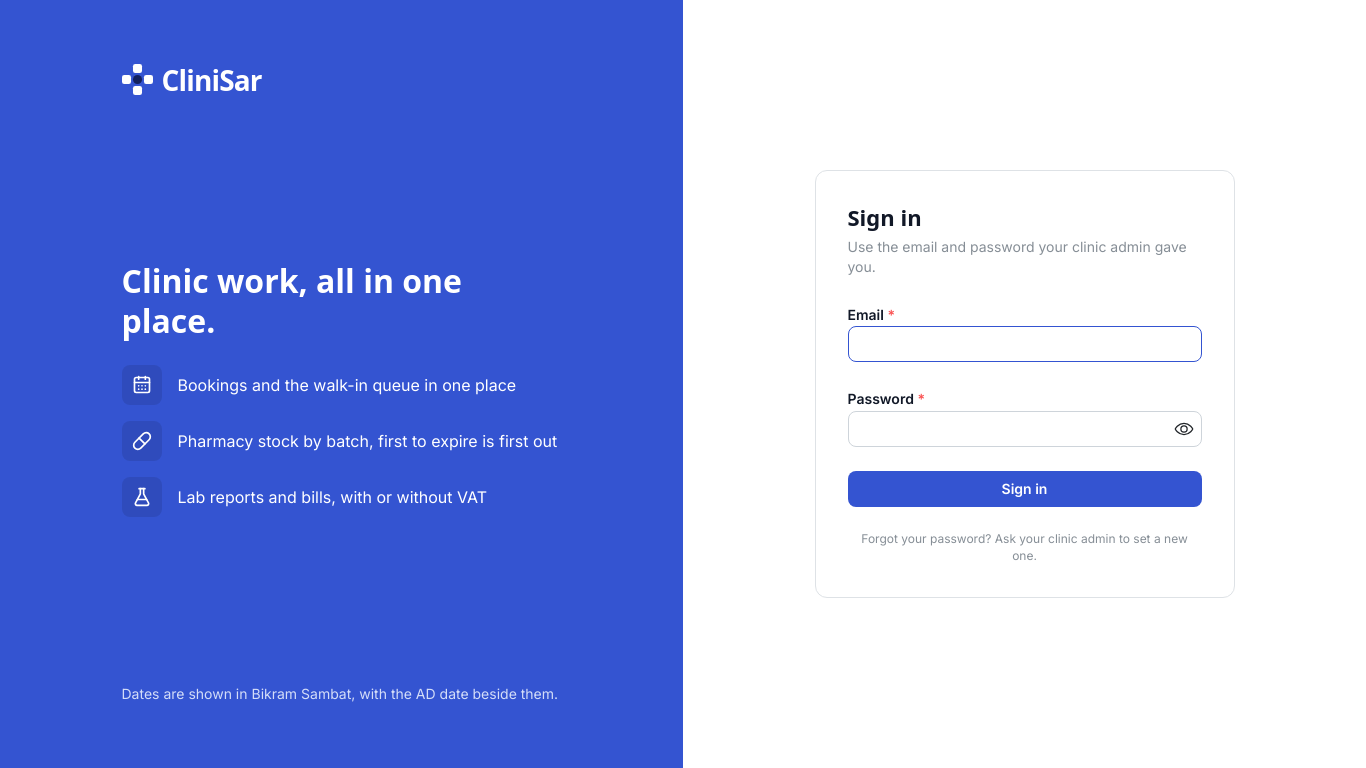
Test case: LoginPage › checks the fields before sending anything
This screenshot has width=1366, height=768.
Type "not-an-email" into the field labelled "Email *" at (1024, 344), box [848, 326, 1202, 362]
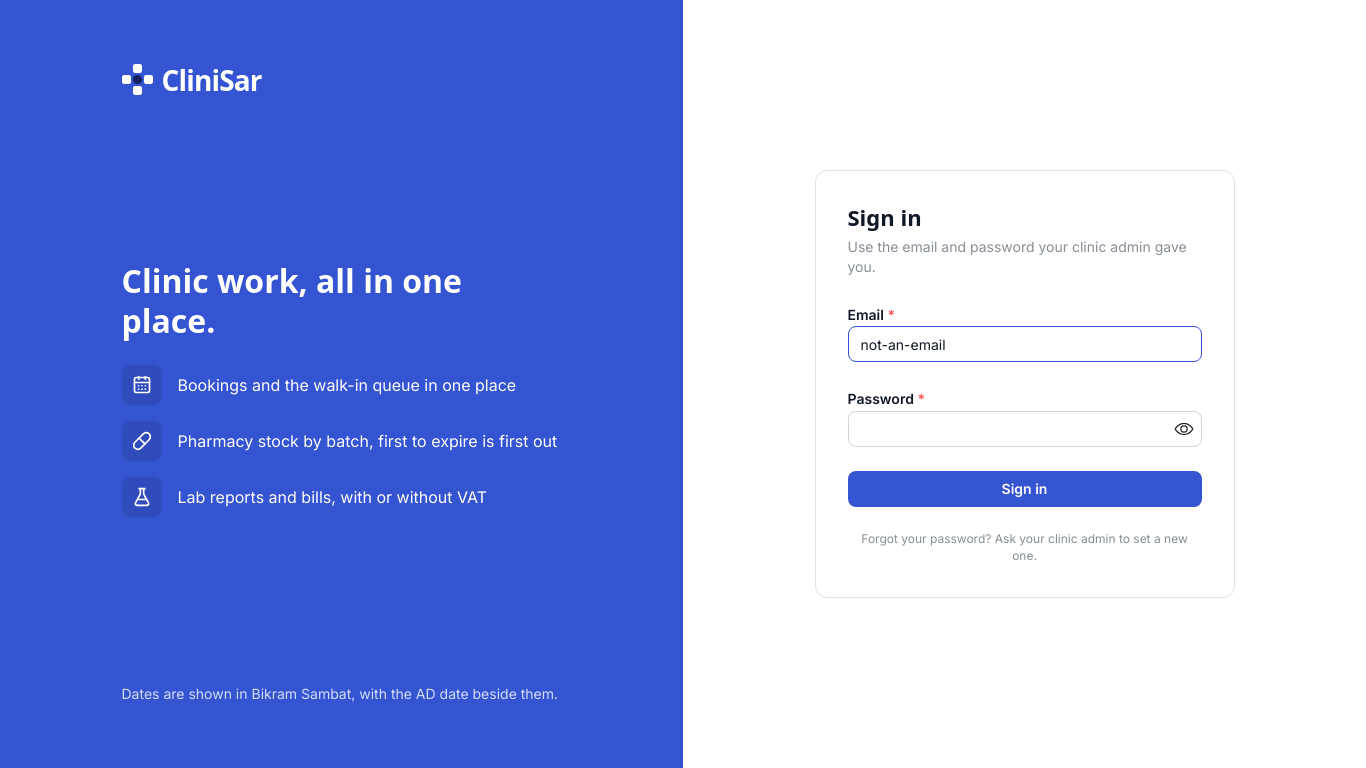
Click the button "Sign in" at (1024, 489), box [848, 471, 1202, 507]
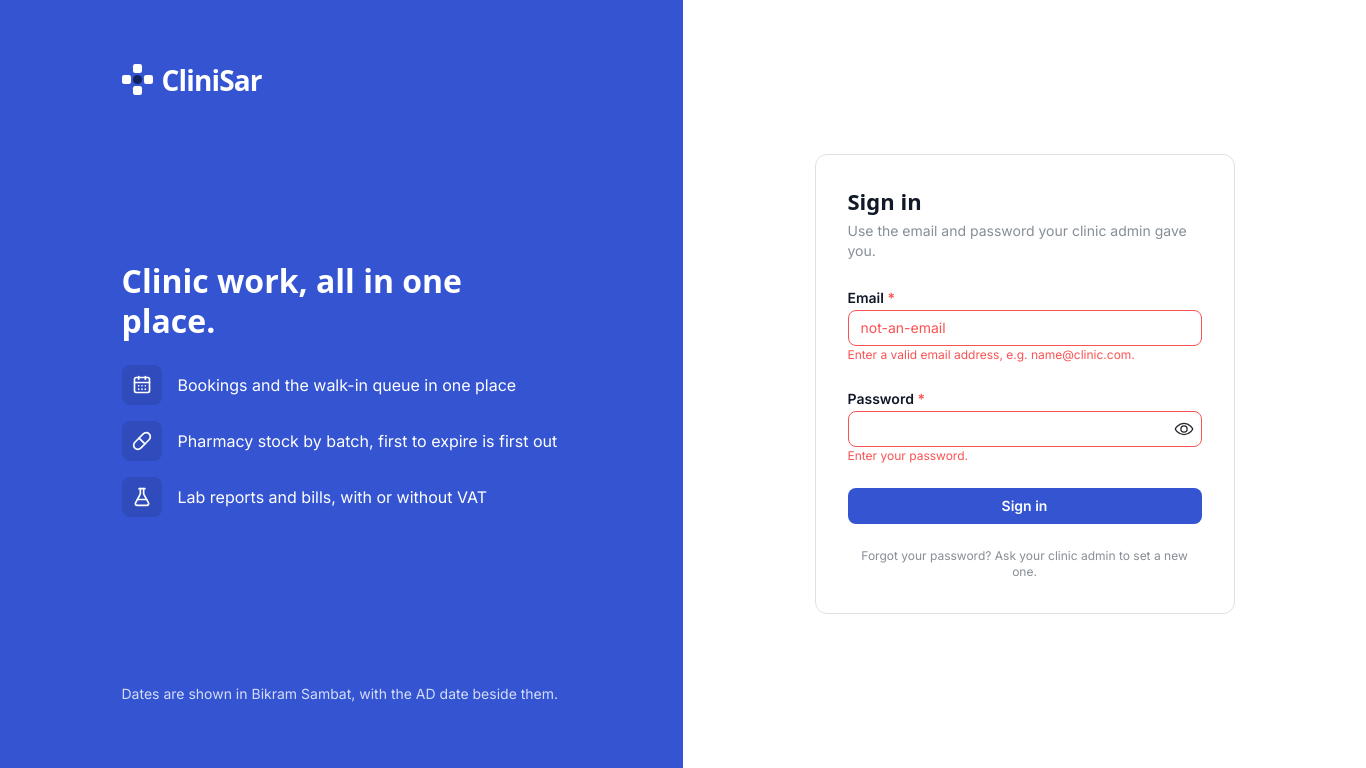
Expected: the text "Enter a valid email address, e.g. name@clinic.com." is shown, [848, 347, 1135, 362]
Expected: the text "Enter your password." is shown, [848, 448, 968, 463]
